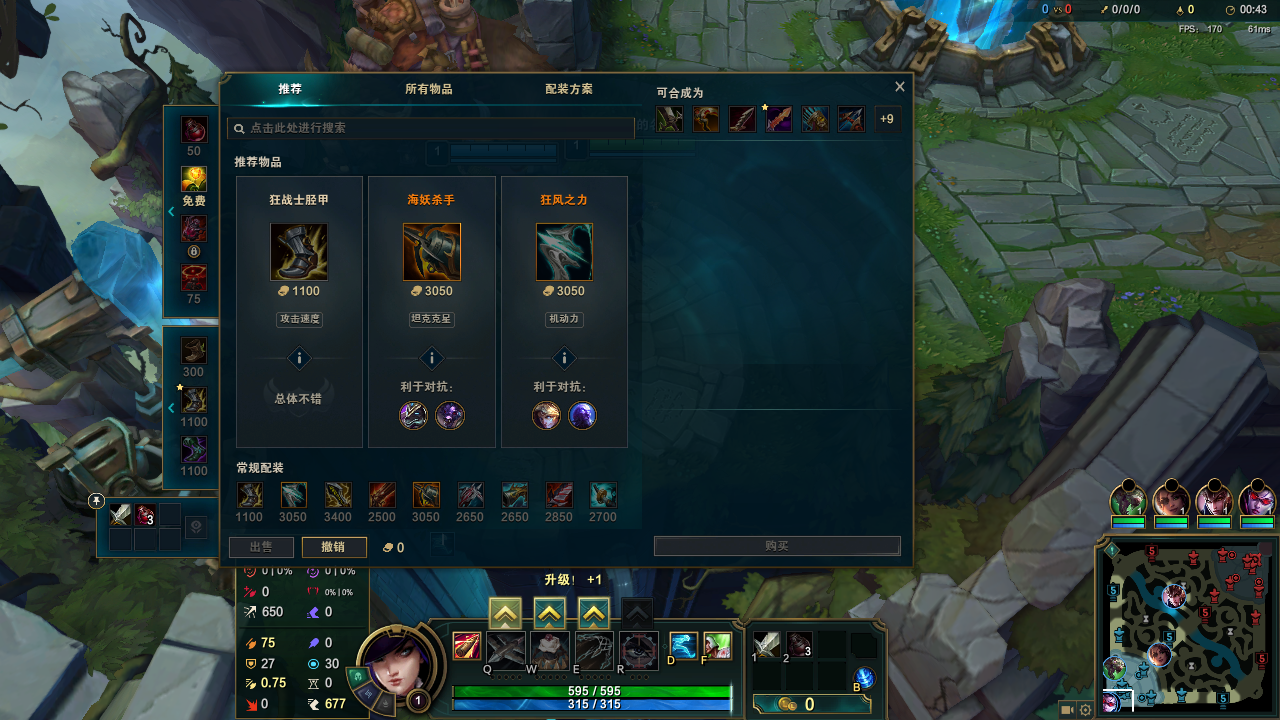GTH: (285, 345, 315, 371), (550, 347, 581, 371), (419, 345, 448, 368)
SJ: (582, 601, 606, 623), (541, 605, 561, 626)
TJJM: (255, 76, 330, 110)
Tuijianshengji: (494, 598, 520, 626)
Yita: (1217, 688, 1230, 706)
